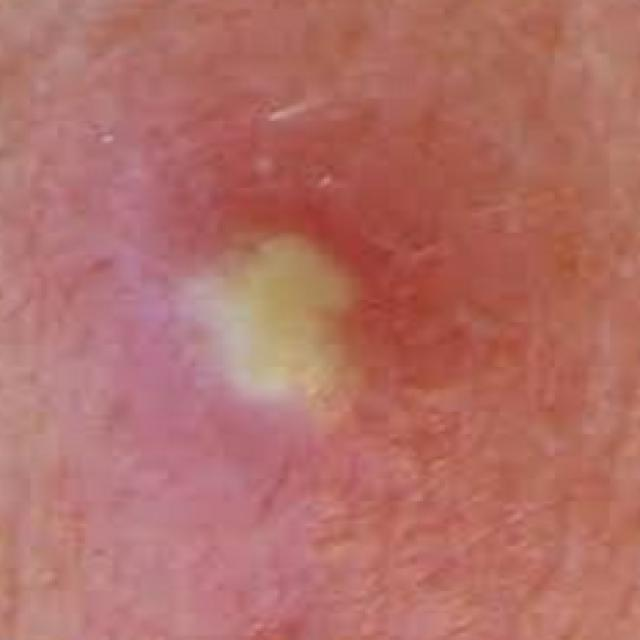pustule: (138, 109, 423, 480)
